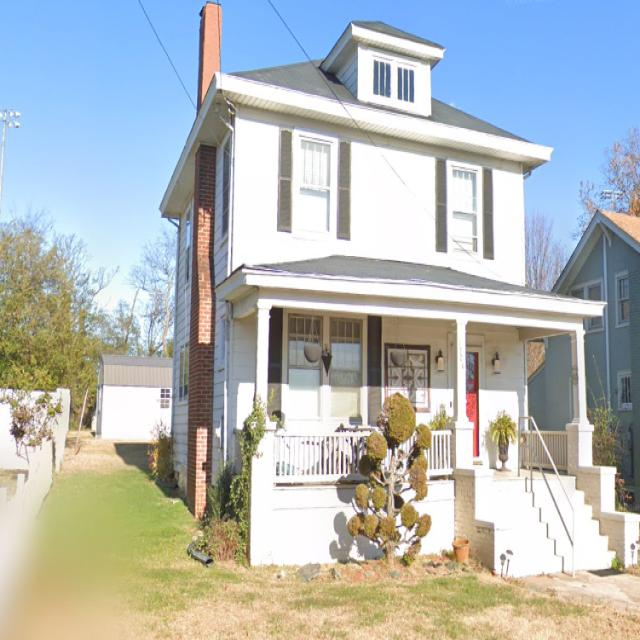House: (158, 0, 640, 576), (527, 209, 640, 513)
